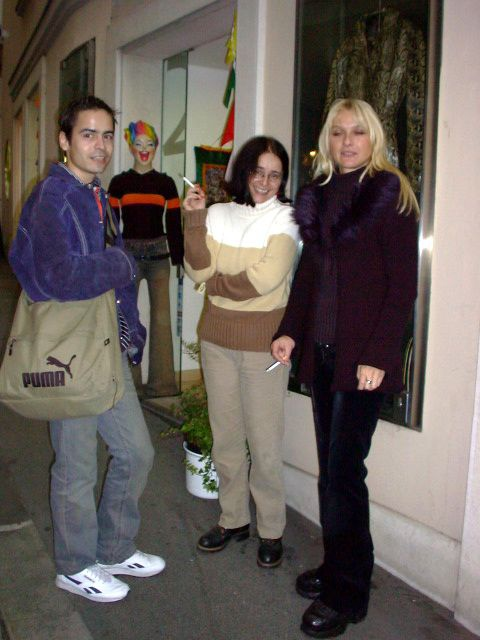person: (268, 98, 417, 635), (11, 96, 164, 603), (198, 133, 299, 571)
